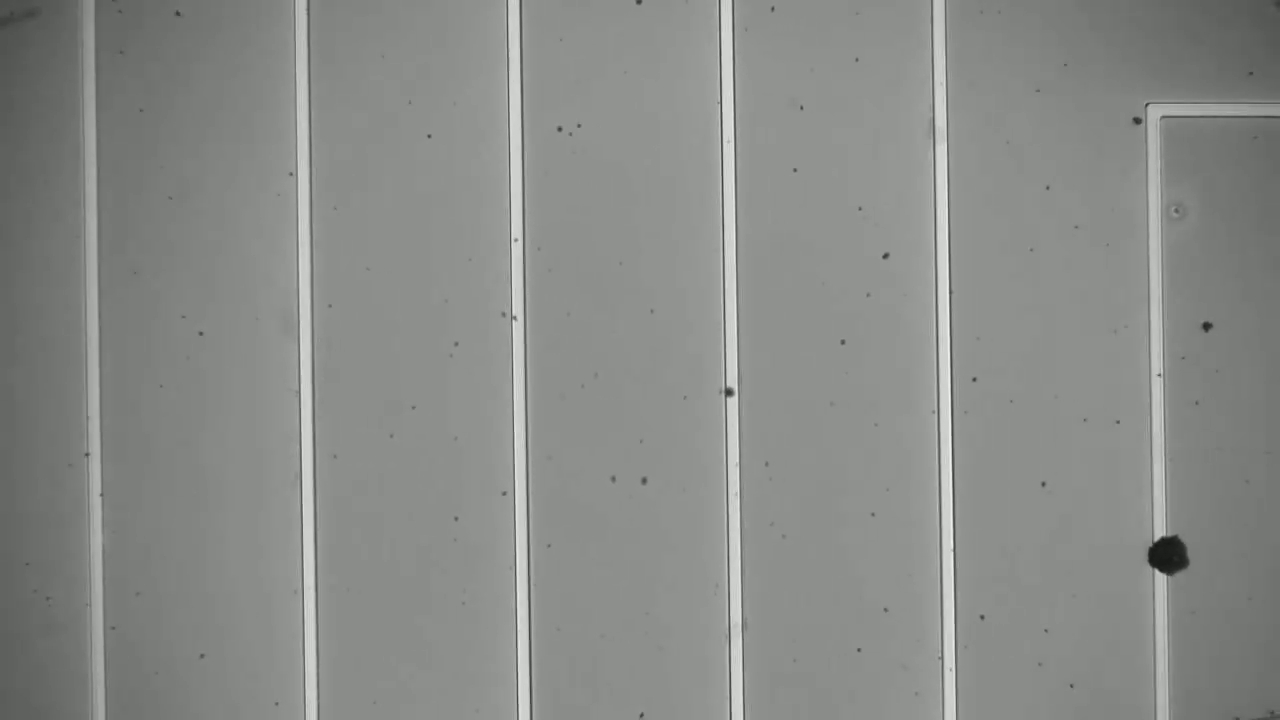stains_enbedded: (1138, 525, 1206, 590), (719, 377, 745, 404)
